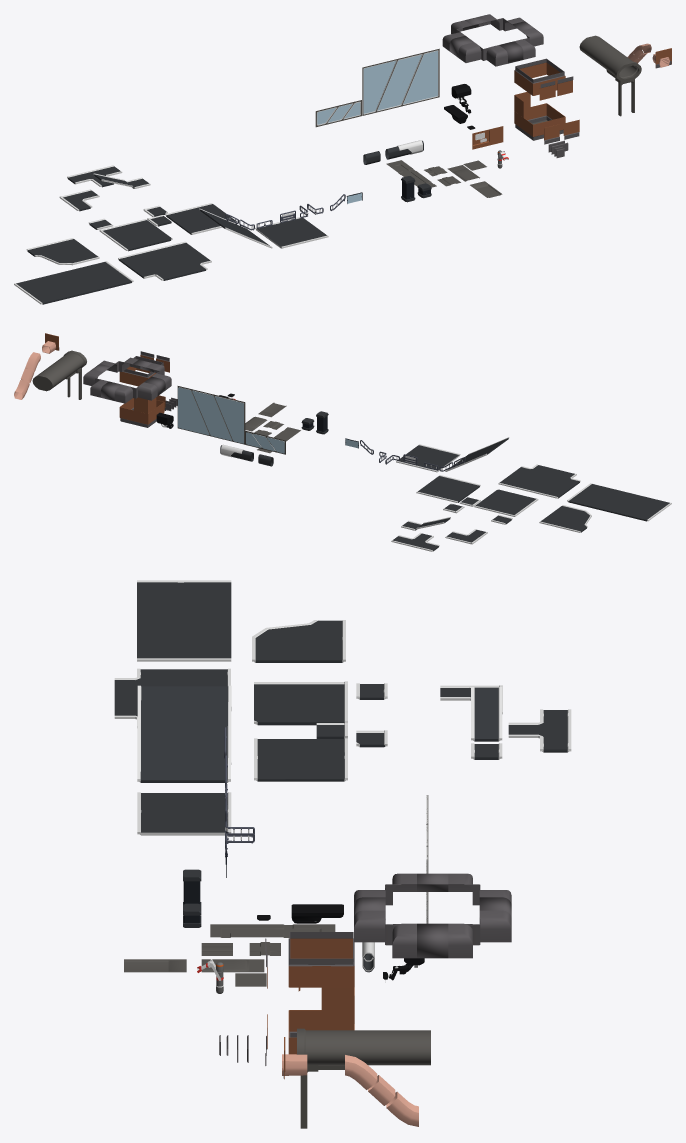
3 views of the same model, one above another, from view 1: azimuth 30°, elevation 25°; view 2: azimuth 150°, elevation 25°; view 3: azimuth 270°, elevation 25° (orthographic). The views are drawn at different scales.
Parts seen in each view (by area): view 1: Plane.053, CATWALK_T, SEWER, CATWALK_WIDE_CORNER, CATWALK_BASE_EDGELESS_L, CATWALK_BASE_EDGELESS_R, CATWALK_BASE, CATWALK_BASE.002, Plane.037, CATWALK_T.001, CATWALK_RAMP, WALL_DECAL (+2 smaller); view 2: Plane.053, CATWALK_T, SEWER, CATWALK_BASE_EDGELESS_L, CATWALK_BASE_EDGELESS_R, CATWALK_WIDE_CORNER, CATWALK_BASE, CATWALK_BASE.002, Plane.037, CATWALK_T.001, CATWALK_RAMP, CATWALK_TURN_LEFT.001 (+1 smaller); view 3: CATWALK_RAMP, SEWER, CATWALK_WIDE_CORNER, CATWALK_BASE_EDGELESS_R, CATWALK_BASE, CATWALK_BASE_EDGELESS_L, CATWALK_BASE.002, CATWALK_T, CATWALK_T.001, CATWALK_RAMP.001, WALL_DIP_TOP_2, WALL_DIP_TOP_L_3 (+9 smaller).
Part boxes in pixels (box(x1,y1,x2,y2)): Plane.053: box(362, 48, 439, 115); CATWALK_T: box(118, 241, 211, 280); SEWER: box(579, 35, 641, 81); CATWALK_WIDE_CORNER: box(99, 219, 172, 251); CATWALK_BASE_EDGELESS_L: box(14, 272, 87, 304); CATWALK_BASE_EDGELESS_R: box(61, 261, 133, 293); CATWALK_BASE: box(255, 217, 328, 248); CATWALK_BASE.002: box(26, 238, 99, 265); Plane.037: box(315, 100, 361, 127); CATWALK_T.001: box(67, 165, 122, 187); CATWALK_RAMP: box(199, 208, 272, 248); WALL_DECAL: box(472, 126, 503, 149); Plane.053: box(177, 386, 245, 444); CATWALK_T: box(498, 464, 580, 498); SEWER: box(32, 350, 86, 391); CATWALK_BASE_EDGELESS_L: box(607, 493, 671, 521); CATWALK_BASE_EDGELESS_R: box(567, 483, 630, 511); CATWALK_WIDE_CORNER: box(474, 489, 538, 516); CATWALK_BASE: box(396, 444, 460, 472); CATWALK_BASE.002: box(539, 505, 591, 532); Plane.037: box(245, 430, 285, 454); CATWALK_T.001: box(391, 532, 439, 551); CATWALK_RAMP: box(445, 437, 509, 471); CATWALK_TURN_LEFT.001: box(445, 529, 487, 544); CATWALK_RAMP: box(137, 685, 231, 782); SEWER: box(297, 1028, 430, 1065); CATWALK_WIDE_CORNER: box(254, 681, 347, 725); CATWALK_BASE_EDGELESS_R: box(137, 620, 231, 661); CATWALK_BASE: box(137, 792, 231, 835); CATWALK_BASE_EDGELESS_L: box(137, 580, 231, 620); CATWALK_BASE.002: box(252, 620, 345, 662); CATWALK_T: box(114, 668, 230, 727); CATWALK_T.001: box(508, 709, 571, 752); CATWALK_RAMP.001: box(471, 687, 502, 741); WALL_DIP_TOP_2: box(417, 923, 448, 958); WALL_DIP_TOP_L_3: box(479, 910, 511, 944).
Size of the model in its own units: 13059 by 1538 by 4375.
